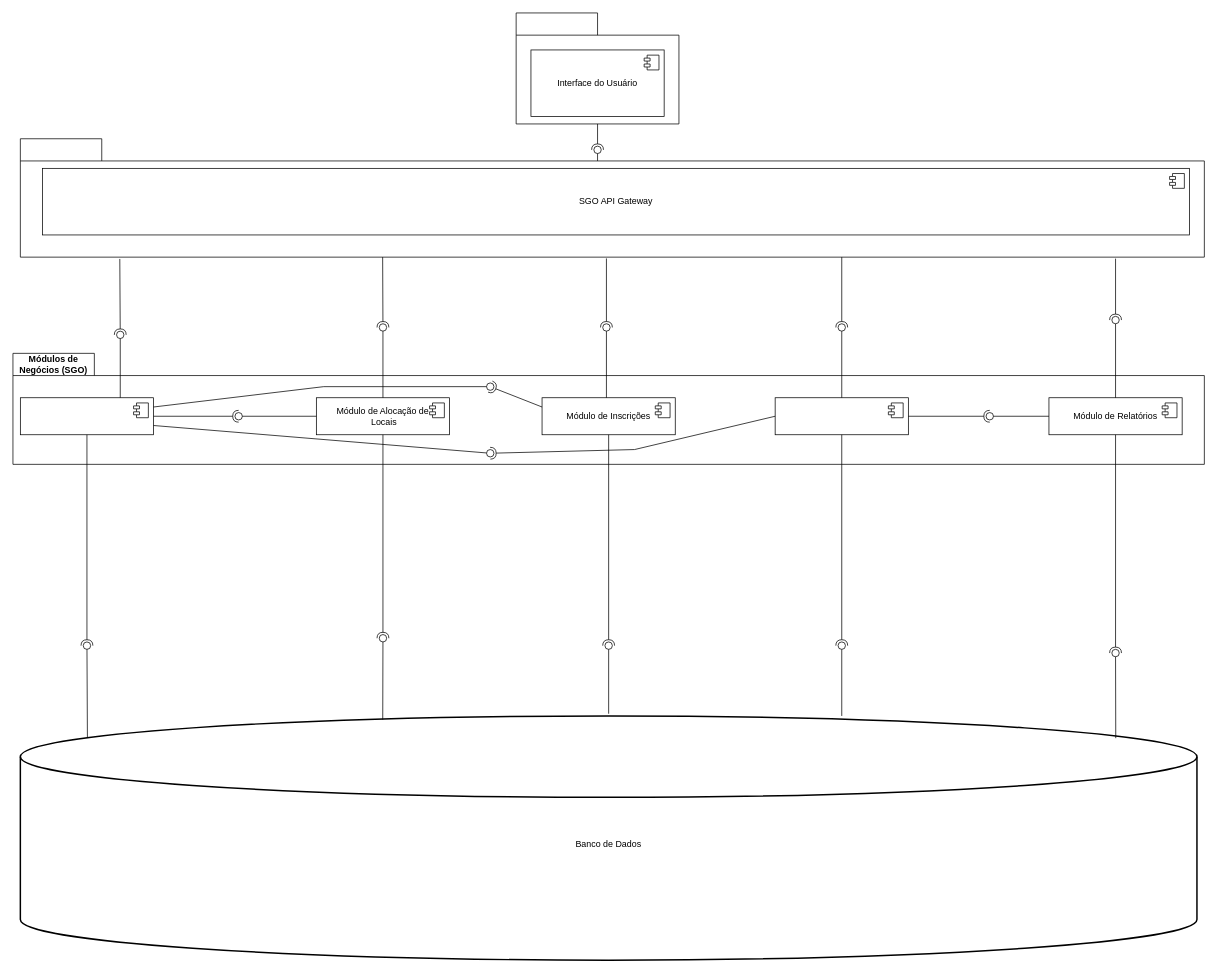
The diagram is 1217 pixels wide and 974 high, and some of its shapes have lost their labels. Here are the shapes that lost their labels. From the top down, the box of each, then its label:
(515, 12, 679, 124): Frontend
(20, 138, 1204, 257): Backend
(20, 397, 154, 435): Competição
(774, 397, 908, 435): Módulo de Resultados
